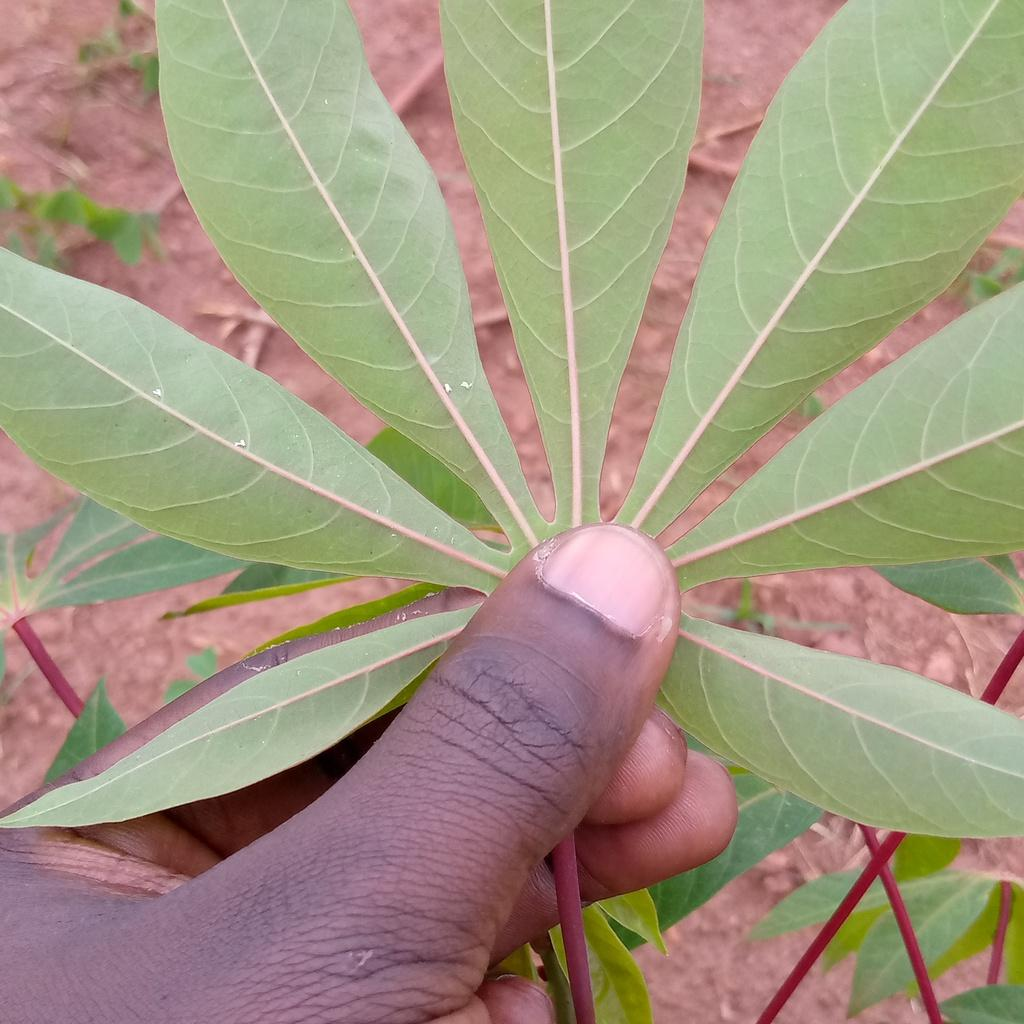adult: (459, 380, 472, 390), (235, 439, 247, 449), (444, 383, 453, 394), (152, 388, 162, 397)
